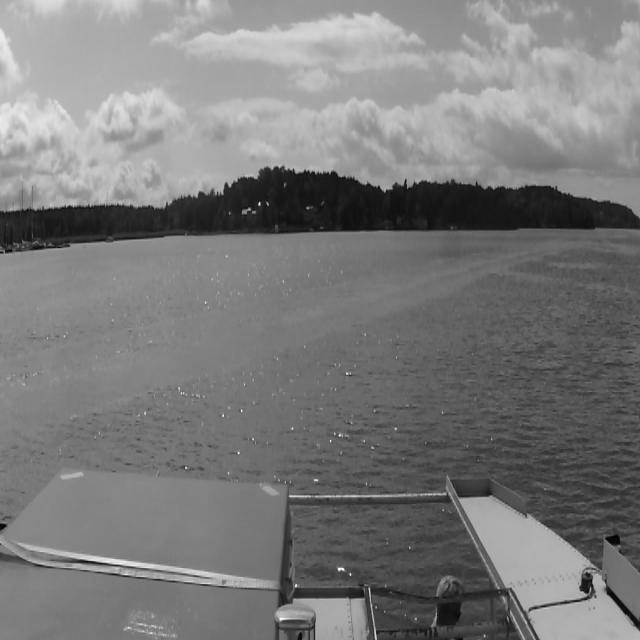ship: (31, 186, 45, 250), (17, 188, 29, 250), (105, 237, 114, 243)
